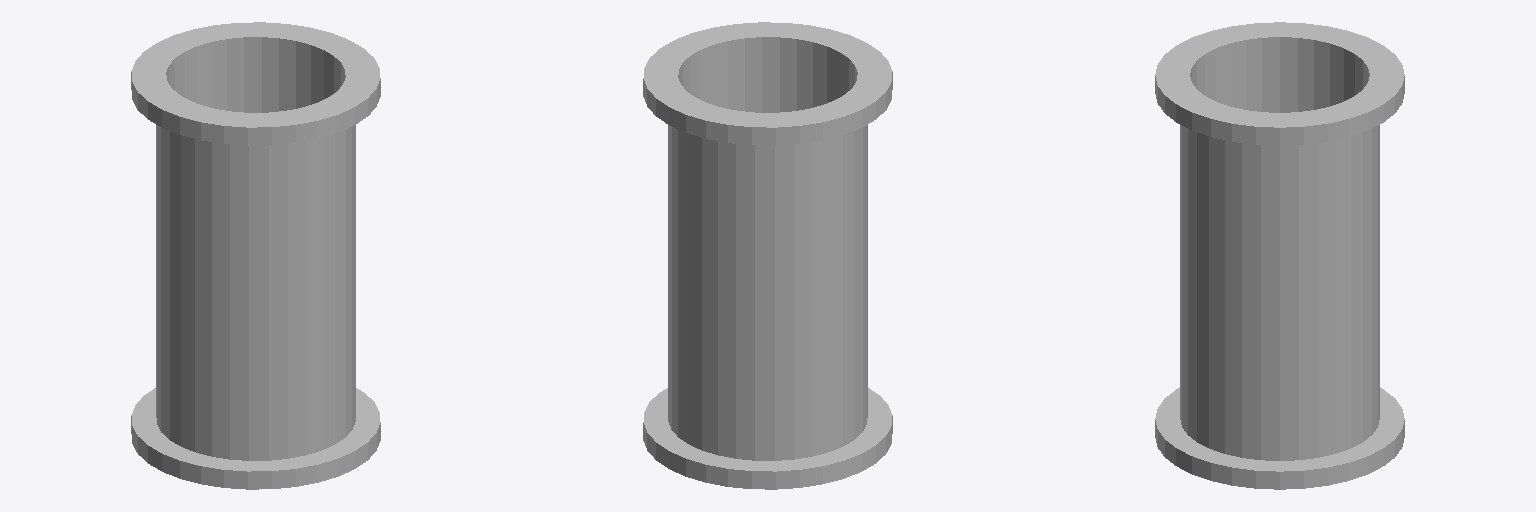
The model's file is pipe_straight.obj.
The picture shows the model from 3 angles: view 1: azimuth 30°, elevation 25°; view 2: azimuth 150°, elevation 25°; view 3: azimuth 270°, elevation 25°; orthographic projection.
Visible parts, largest first — view 1: Cylinder.003; view 2: Cylinder.003; view 3: Cylinder.003.
Boxes of the visible parts, x1,y1,x2,y2 form: Cylinder.003: [131, 22, 380, 489]; Cylinder.003: [643, 22, 892, 489]; Cylinder.003: [1155, 22, 1404, 489].
Bounding box in the file's own units: 0.625 × 1 × 0.625.